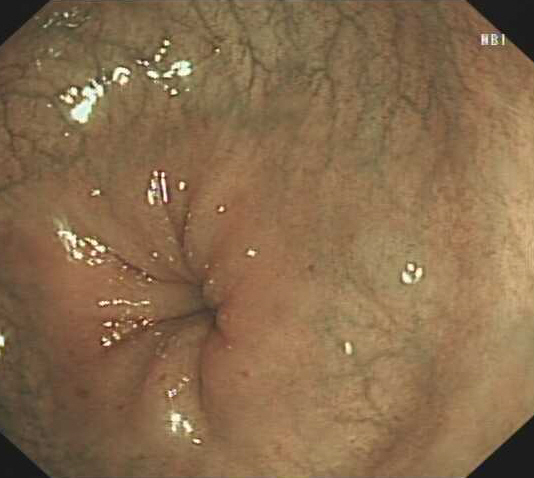others: (347, 216, 440, 309)
